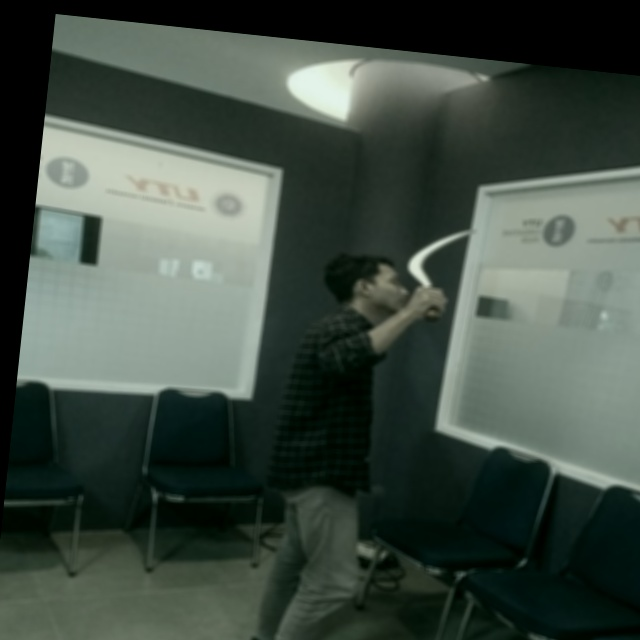Sharp-Object: (392, 220, 482, 331)
